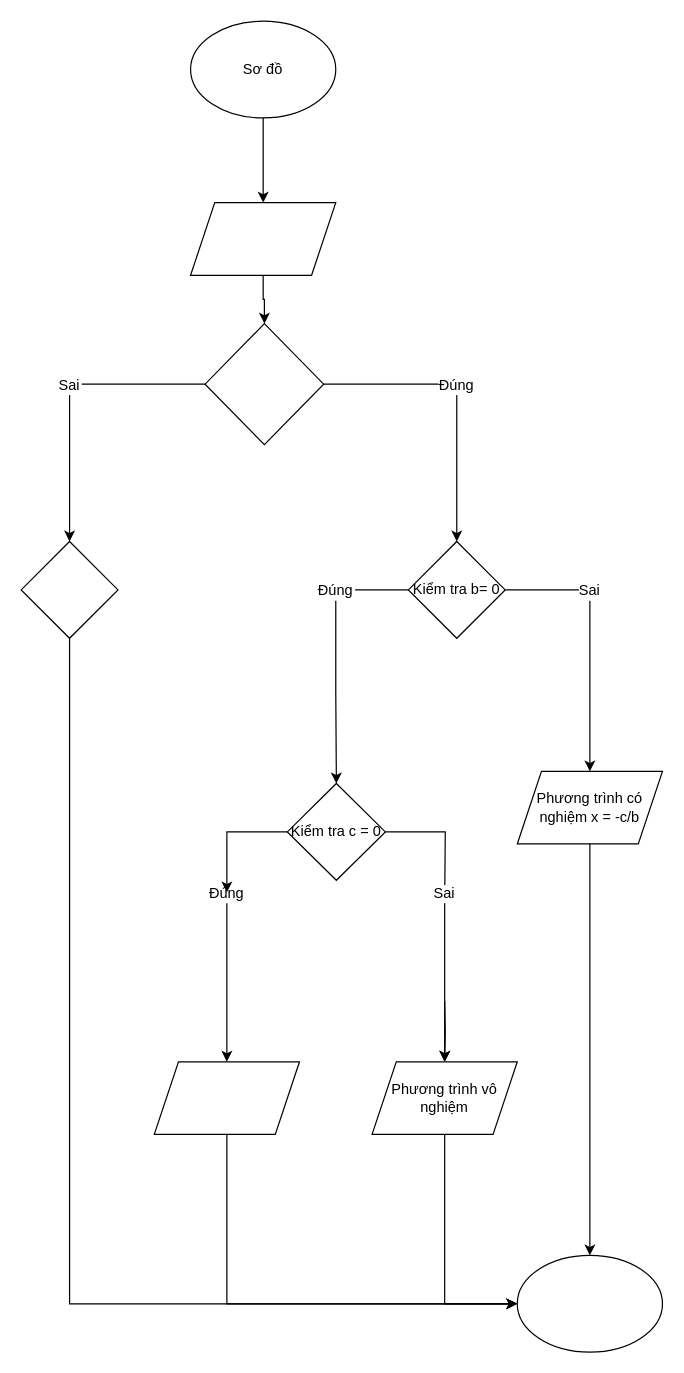
This 684x1373 diagram has some shape labels left out. Each missing label, with the centre of its shape:
End: pixel 589 1303
Kiểm tra điều kiện a = 0: pixel 264 383
Nhập a,b,c: pixel 262 238
Phương trình vô số nghiệm: pixel 226 1097
Tính delta: pixel 69 589
